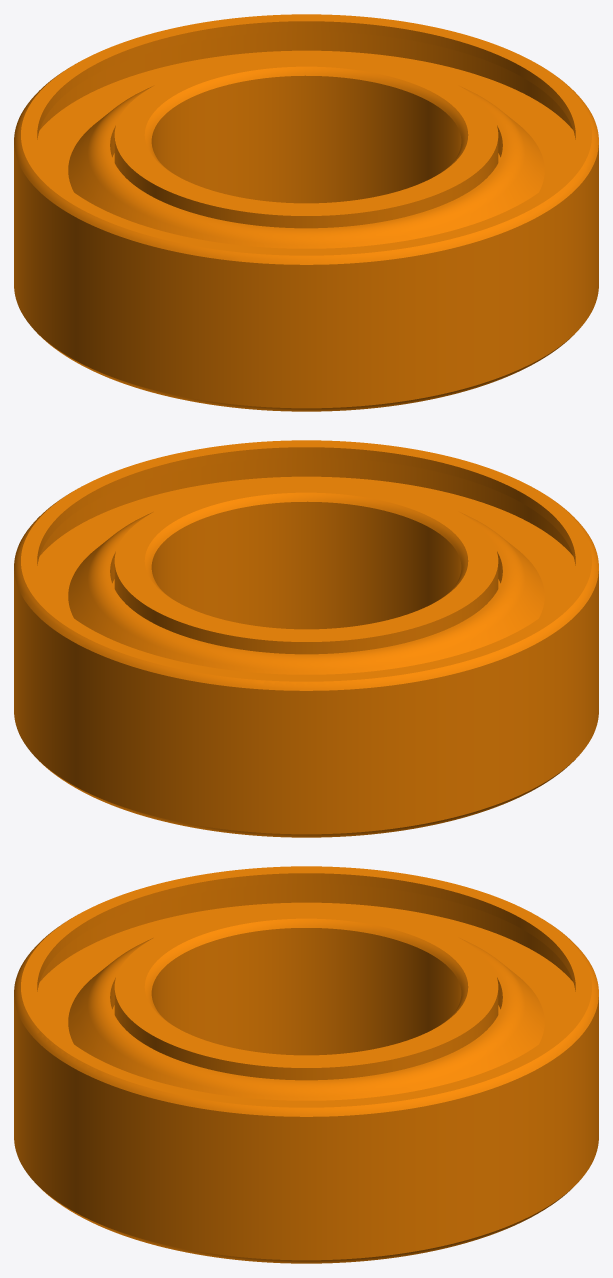
File: Exc_Motor_5203_2402_0188_46.obj
3 renders of one model, top to bottom at view 1: azimuth 30°, elevation 25°; view 2: azimuth 150°, elevation 25°; view 3: azimuth 270°, elevation 25°, orthographic.
Parts seen in each view (by area): view 1: mesh28600; view 2: mesh28600; view 3: mesh28600.
Part boxes in pixels (x1=…): mesh28600: x1=14, y1=14, x2=598, y2=411; mesh28600: x1=14, y1=440, x2=598, y2=837; mesh28600: x1=14, y1=866, x2=598, y2=1263.
Bounding box in the file's own units: 0.017 × 0.005 × 0.017.
